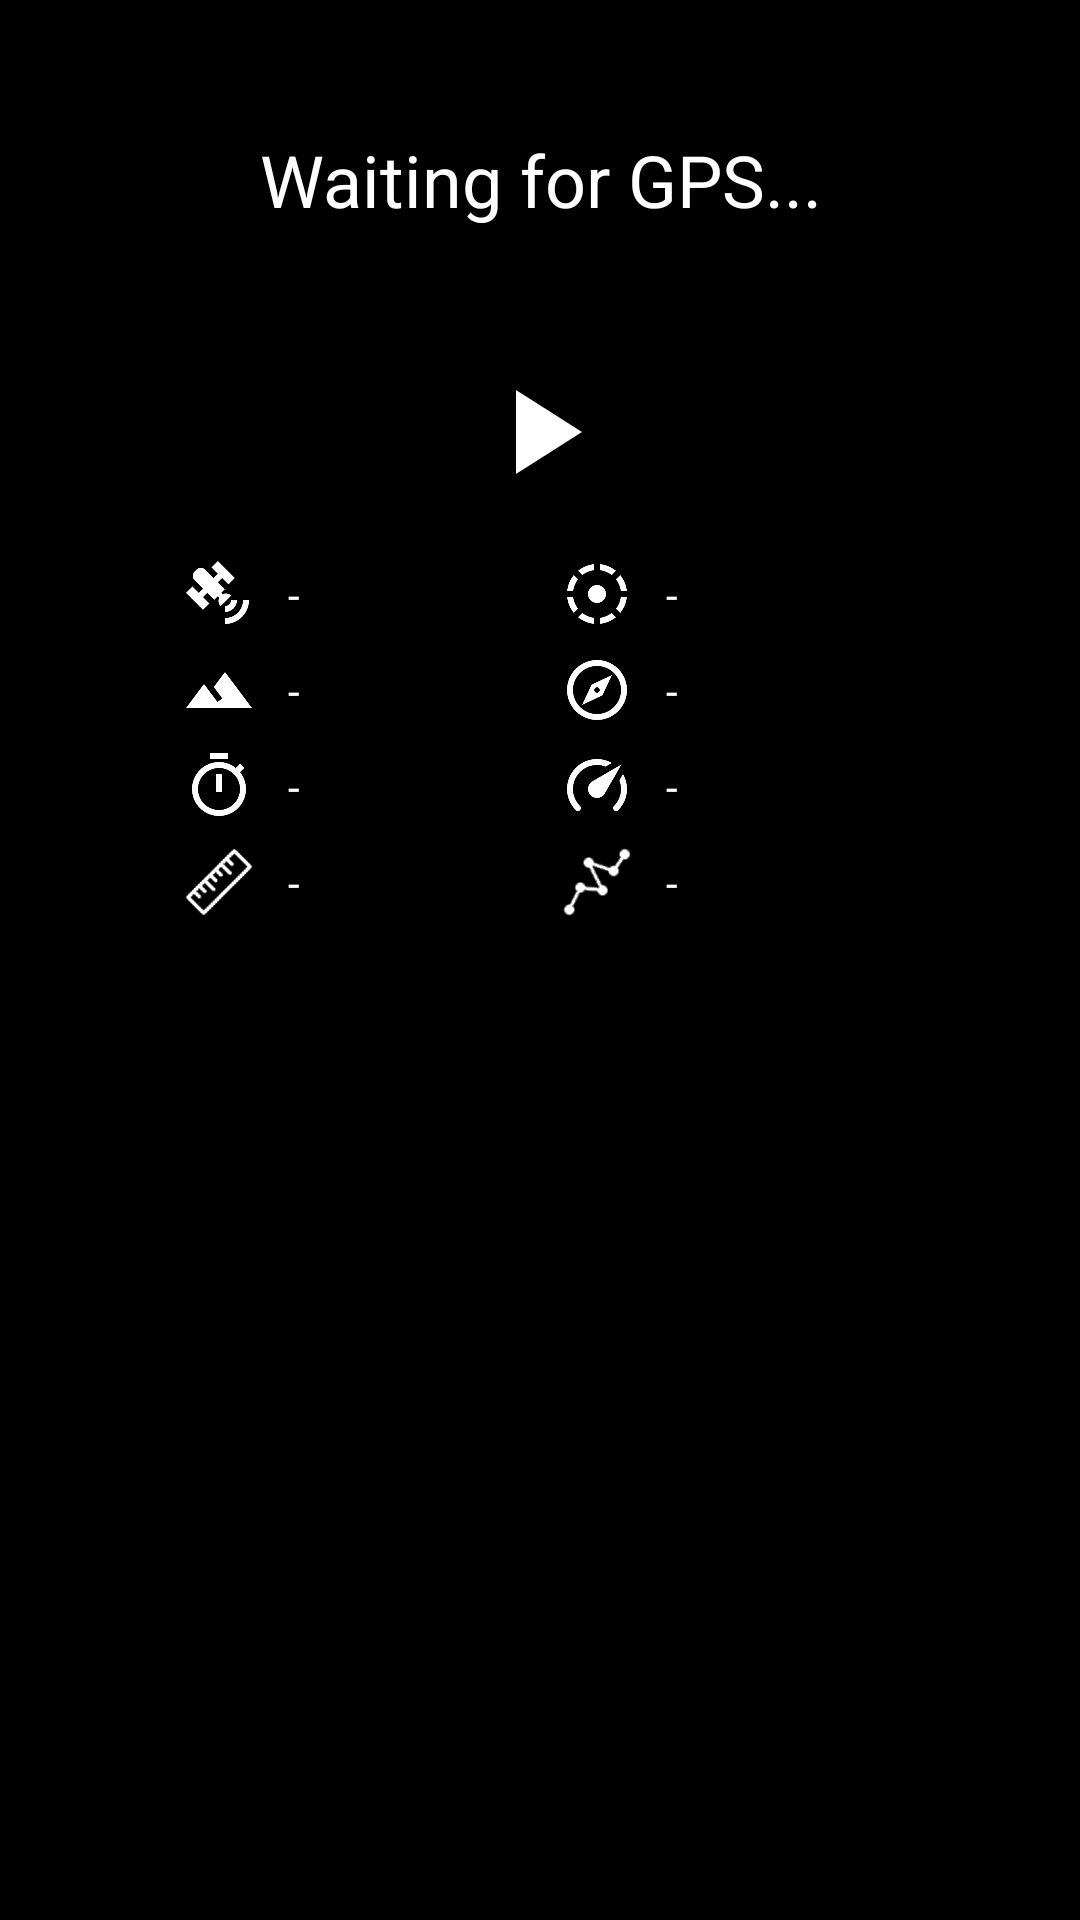

Named icons in this screenshot (1080 × 1920) and their bounding boxes, (x1, y1, x2, y2):
Accuracy: (567, 564, 627, 624)
Altitude: (186, 672, 252, 708)
Direction: (567, 660, 627, 720)
Duration: (192, 753, 246, 816)
Number of points: (563, 848, 631, 916)
Satellites: (186, 561, 249, 624)
Speed: (567, 759, 627, 811)
Start/Stop Logging: (516, 390, 582, 474)
Travelled: (186, 849, 252, 915)
